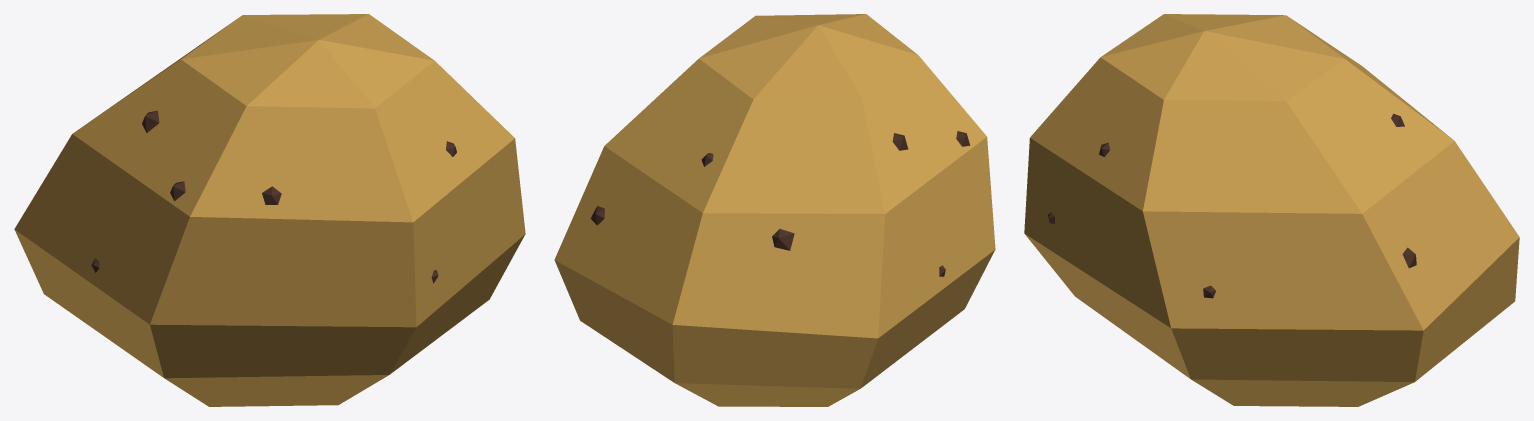
The model's file is potato.glb.
The picture shows the model from 3 angles, left to right: view 1: azimuth 30°, elevation 25°; view 2: azimuth 150°, elevation 25°; view 3: azimuth 270°, elevation 25°; orthographic projection. The views are drawn at different scales.
Visible parts, largest first — view 1: Sphere, Icosphere.009; view 2: Sphere, Icosphere.009; view 3: Sphere, Icosphere.009.
Boxes of the visible parts, left/top/right/bottom form: Sphere: left=14, top=14, right=525, bottom=406; Icosphere.009: left=91, top=110, right=456, bottom=283; Sphere: left=554, top=14, right=995, bottom=406; Icosphere.009: left=590, top=131, right=969, bottom=276; Sphere: left=1024, top=14, right=1519, bottom=406; Icosphere.009: left=1048, top=113, right=1416, bottom=298.
Size of the model in its own units: 1.52 by 1.41 by 1.86.
